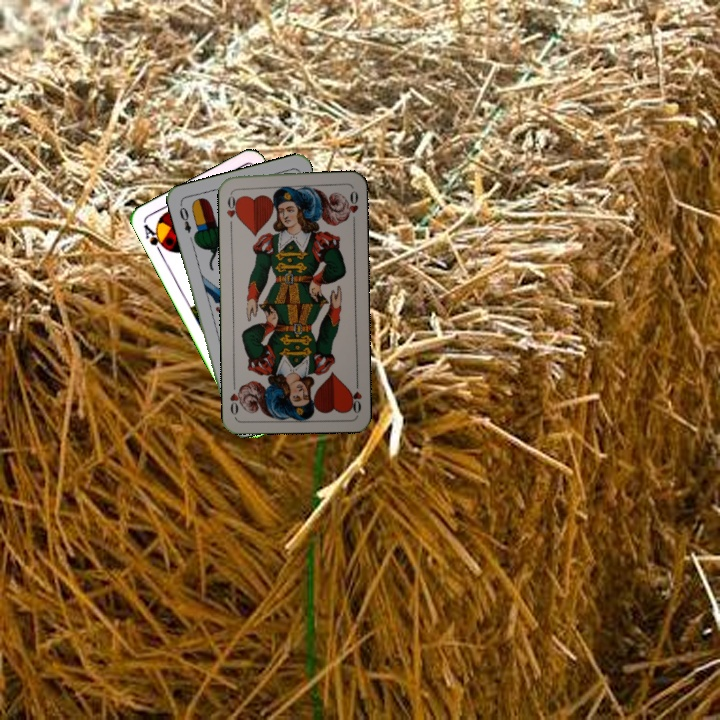EO: (175, 200, 194, 235)
HO: (222, 189, 242, 229), (346, 375, 364, 415)
SA: (139, 220, 171, 257)
